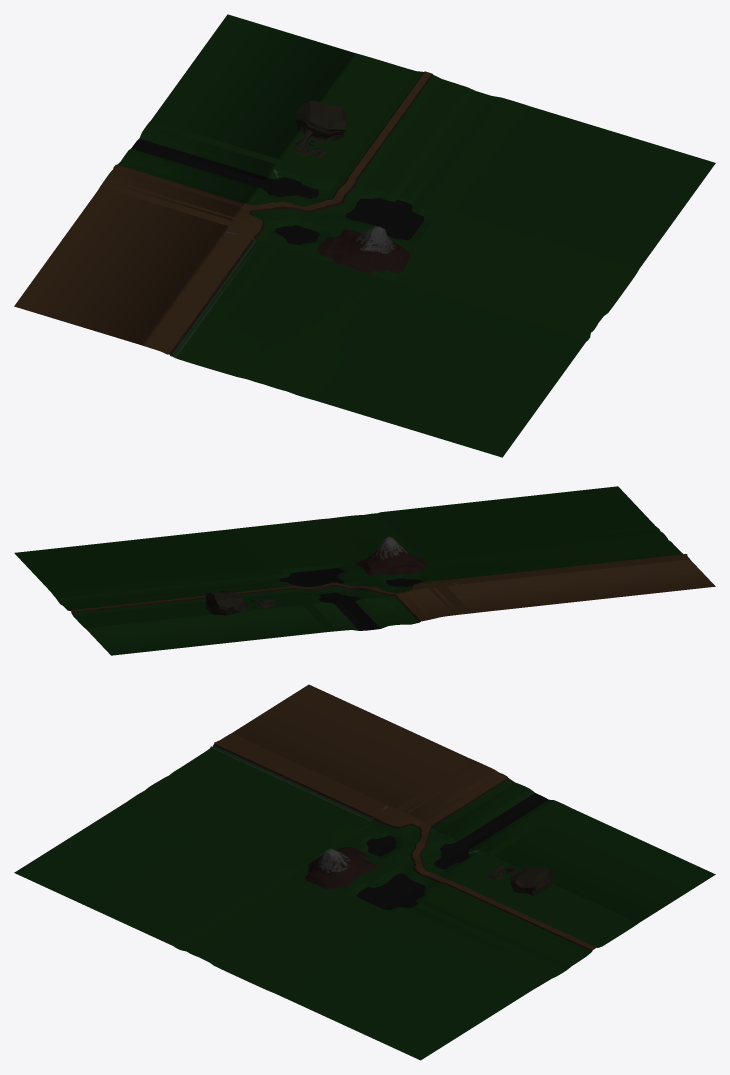
Rendered from Terreno.glb.
The picture shows the model from 3 angles, top to bottom: view 1: azimuth 30°, elevation 25°; view 2: azimuth 150°, elevation 25°; view 3: azimuth 270°, elevation 25°; orthographic projection. The views are drawn at different scales.
Visible parts, largest first — view 1: mesh_id8, mesh_id10, mesh_id9, mesh_id6, node_id12; view 2: mesh_id8, mesh_id10, mesh_id9, mesh_id6, node_id12; view 3: mesh_id8, mesh_id10, mesh_id9, mesh_id6, node_id12.
Part boxes in pixels (x1,y1,x2,y2): mesh_id8: (117, 14, 715, 457); mesh_id10: (14, 71, 431, 354); mesh_id9: (131, 138, 424, 244); mesh_id6: (169, 71, 433, 355); node_id12: (291, 101, 347, 158); mesh_id8: (14, 486, 683, 655); mesh_id10: (70, 554, 715, 621); mesh_id9: (279, 568, 422, 630); mesh_id6: (70, 547, 426, 622); node_id12: (205, 590, 281, 615); mesh_id8: (14, 745, 715, 1060); mesh_id10: (214, 684, 596, 950); mesh_id9: (356, 793, 548, 909); mesh_id6: (213, 743, 592, 951); node_id12: (488, 864, 553, 895).
Bounding box in the file's own units: 0.6089 × 0.0726 × 0.6032.
Materials: 6 (6 with a texture image).
